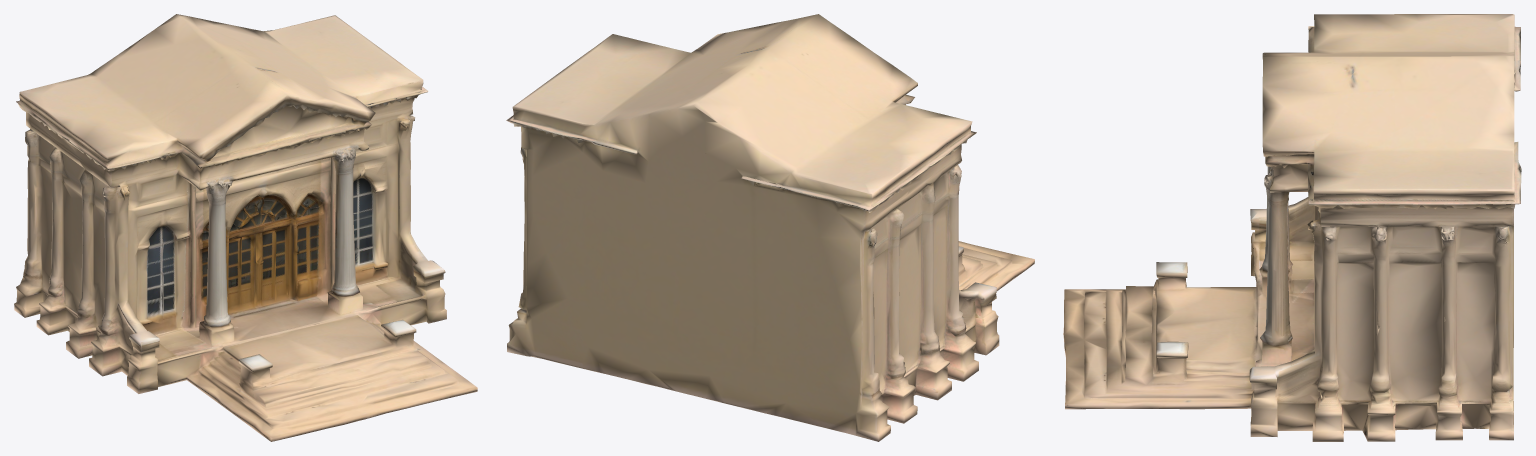
The model's file is Meshy_AI_museum_building_1016102603_texture.fbx.
The picture shows the model from 3 angles, left to right: view 1: azimuth 30°, elevation 25°; view 2: azimuth 150°, elevation 25°; view 3: azimuth 270°, elevation 25°; orthographic projection. The views are drawn at different scales.
Parts seen in each view (by area): view 1: Mesh_0; view 2: Mesh_0; view 3: Mesh_0.
Part boxes in pixels (box(x1,y1,x2,y2)): Mesh_0: box(14, 14, 477, 441); Mesh_0: box(506, 14, 1034, 441); Mesh_0: box(1063, 14, 1521, 441).
Size of the model in its own units: 188 by 142 by 200.
Materials: 1 (1 with a texture image).
